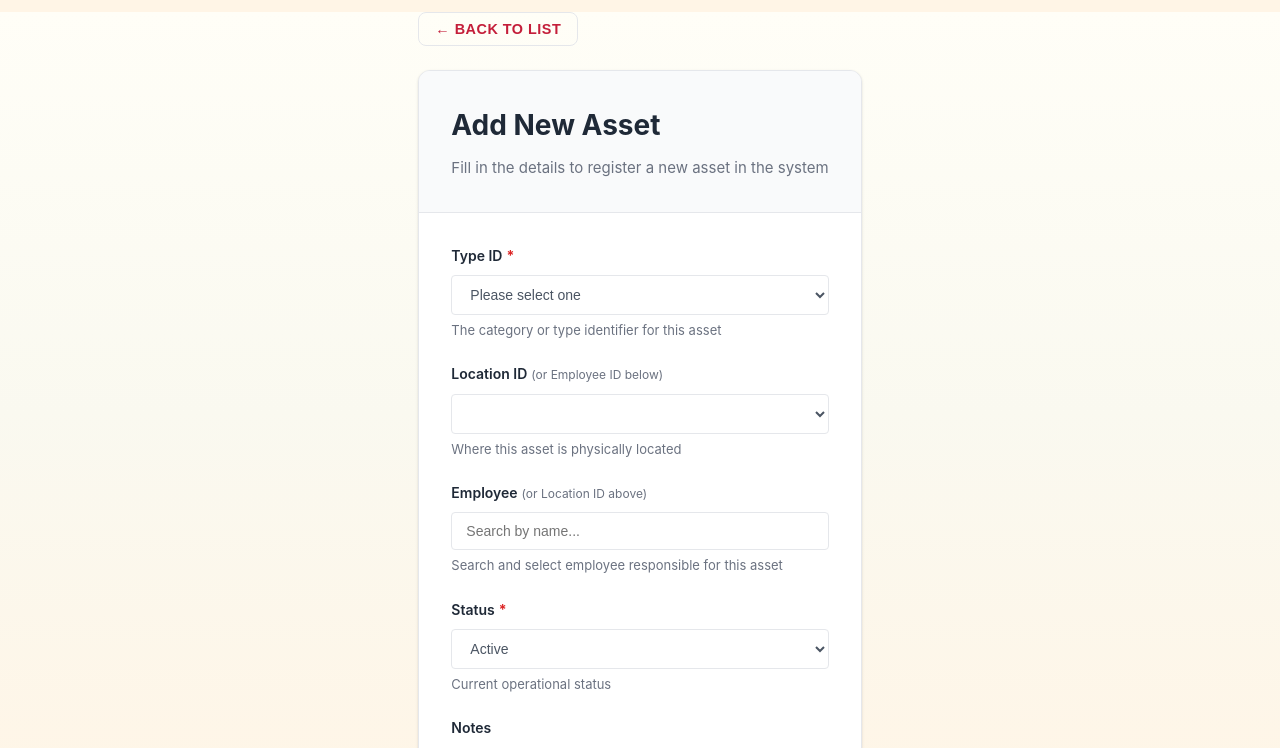
Test case: AssetAddView › filters employees based on search query
Type "Jane" into the field with id "employee_search" at [640, 531], box [451,512,829,550]
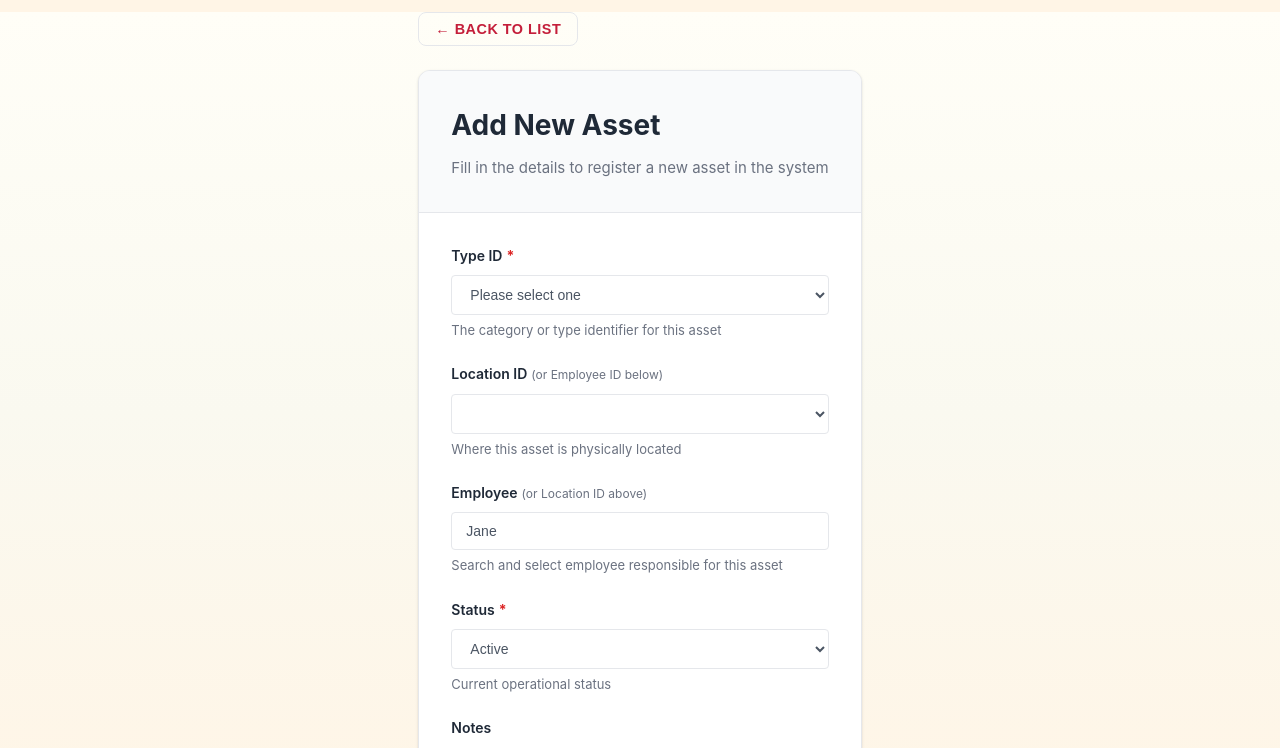
Focus the field with id "employee_search" at [640, 531], box [451,512,829,550]
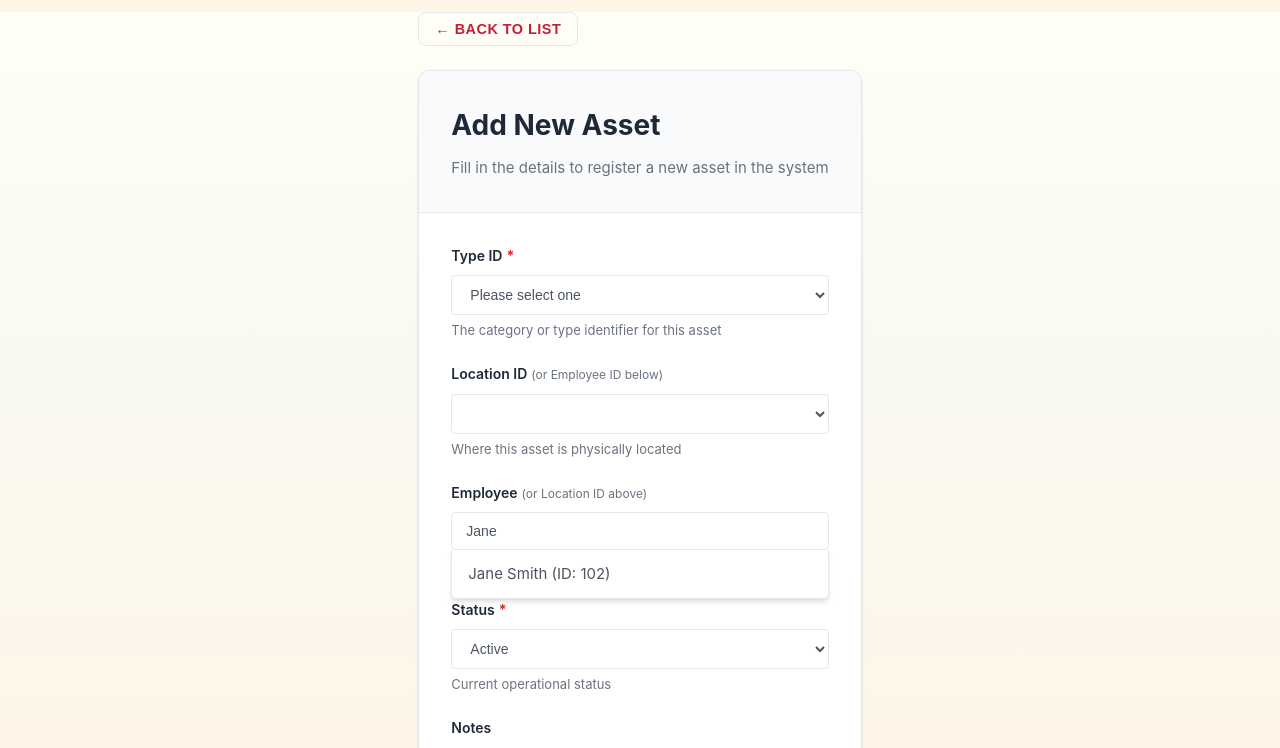
Now the text "Jane Smith (ID: 102)" is shown, box [468,564,611,583]
